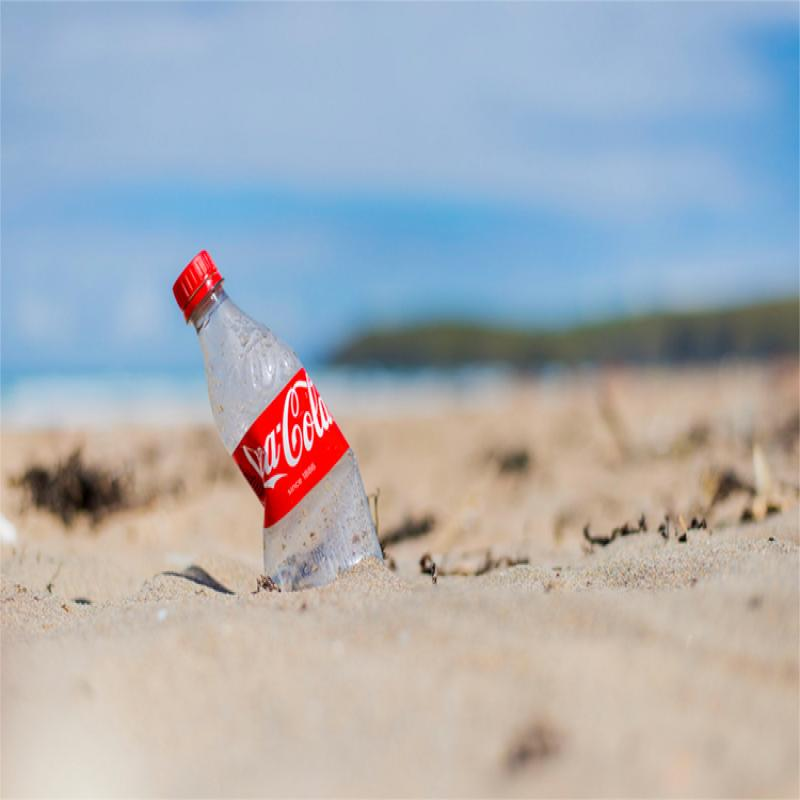botella: (176, 250, 390, 599)
